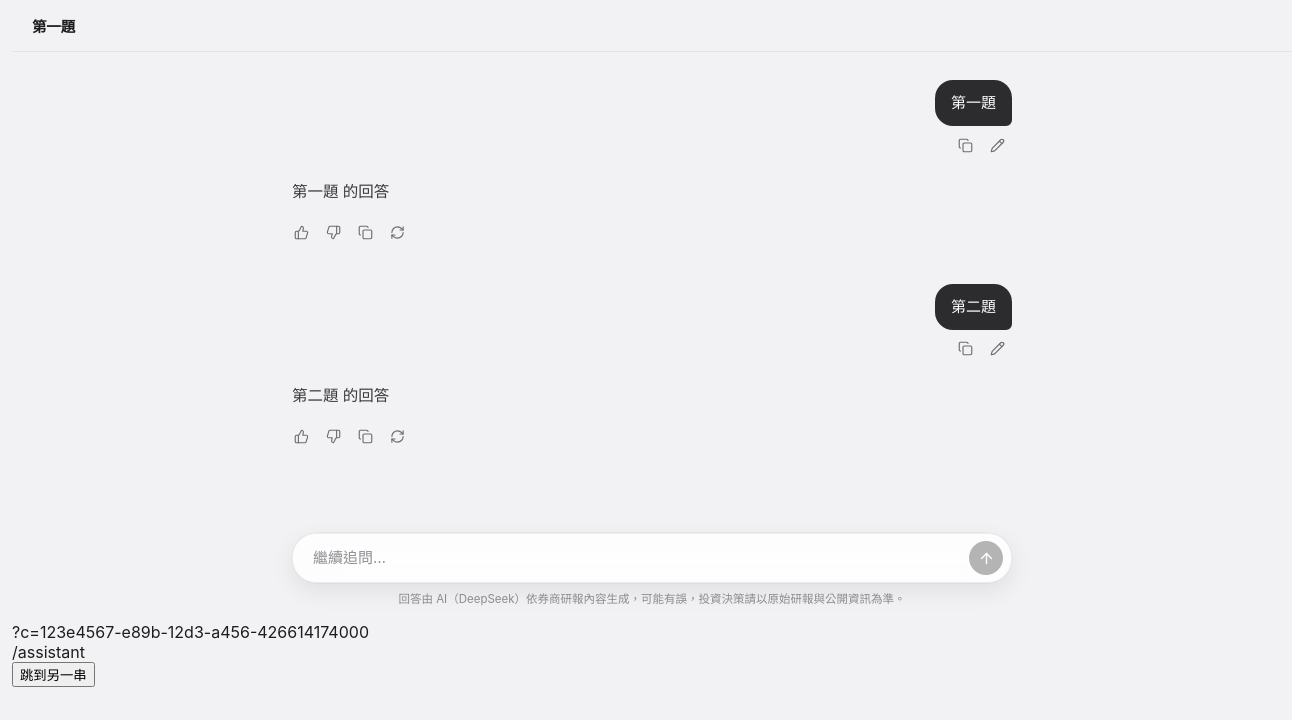
Test: 重生非最後一輪時 Composer 變成停止鈕（busy 要掃全部輪次）
Expected: the text "第二題" is shown, [935,284,1012,330]
Click the button named "重新生成" below "第一題 的回答".
click(397, 233)  # box [382,218,412,248]
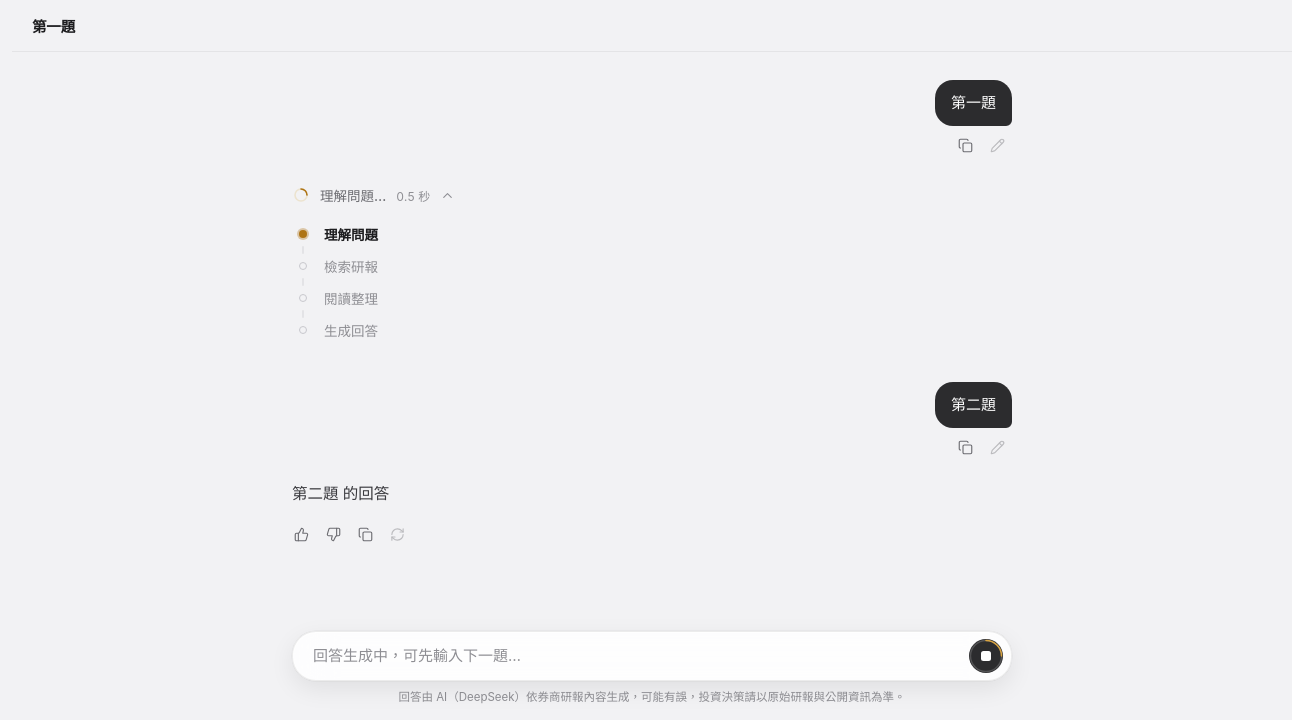
Expected: the button named "停止生成" is shown, [969,639,1003,673]
Expected: the number of buttons named "重新生成" is 1, [382,520,412,550]
Expected: the button named "重新生成" is disabled, [382,520,412,550]
